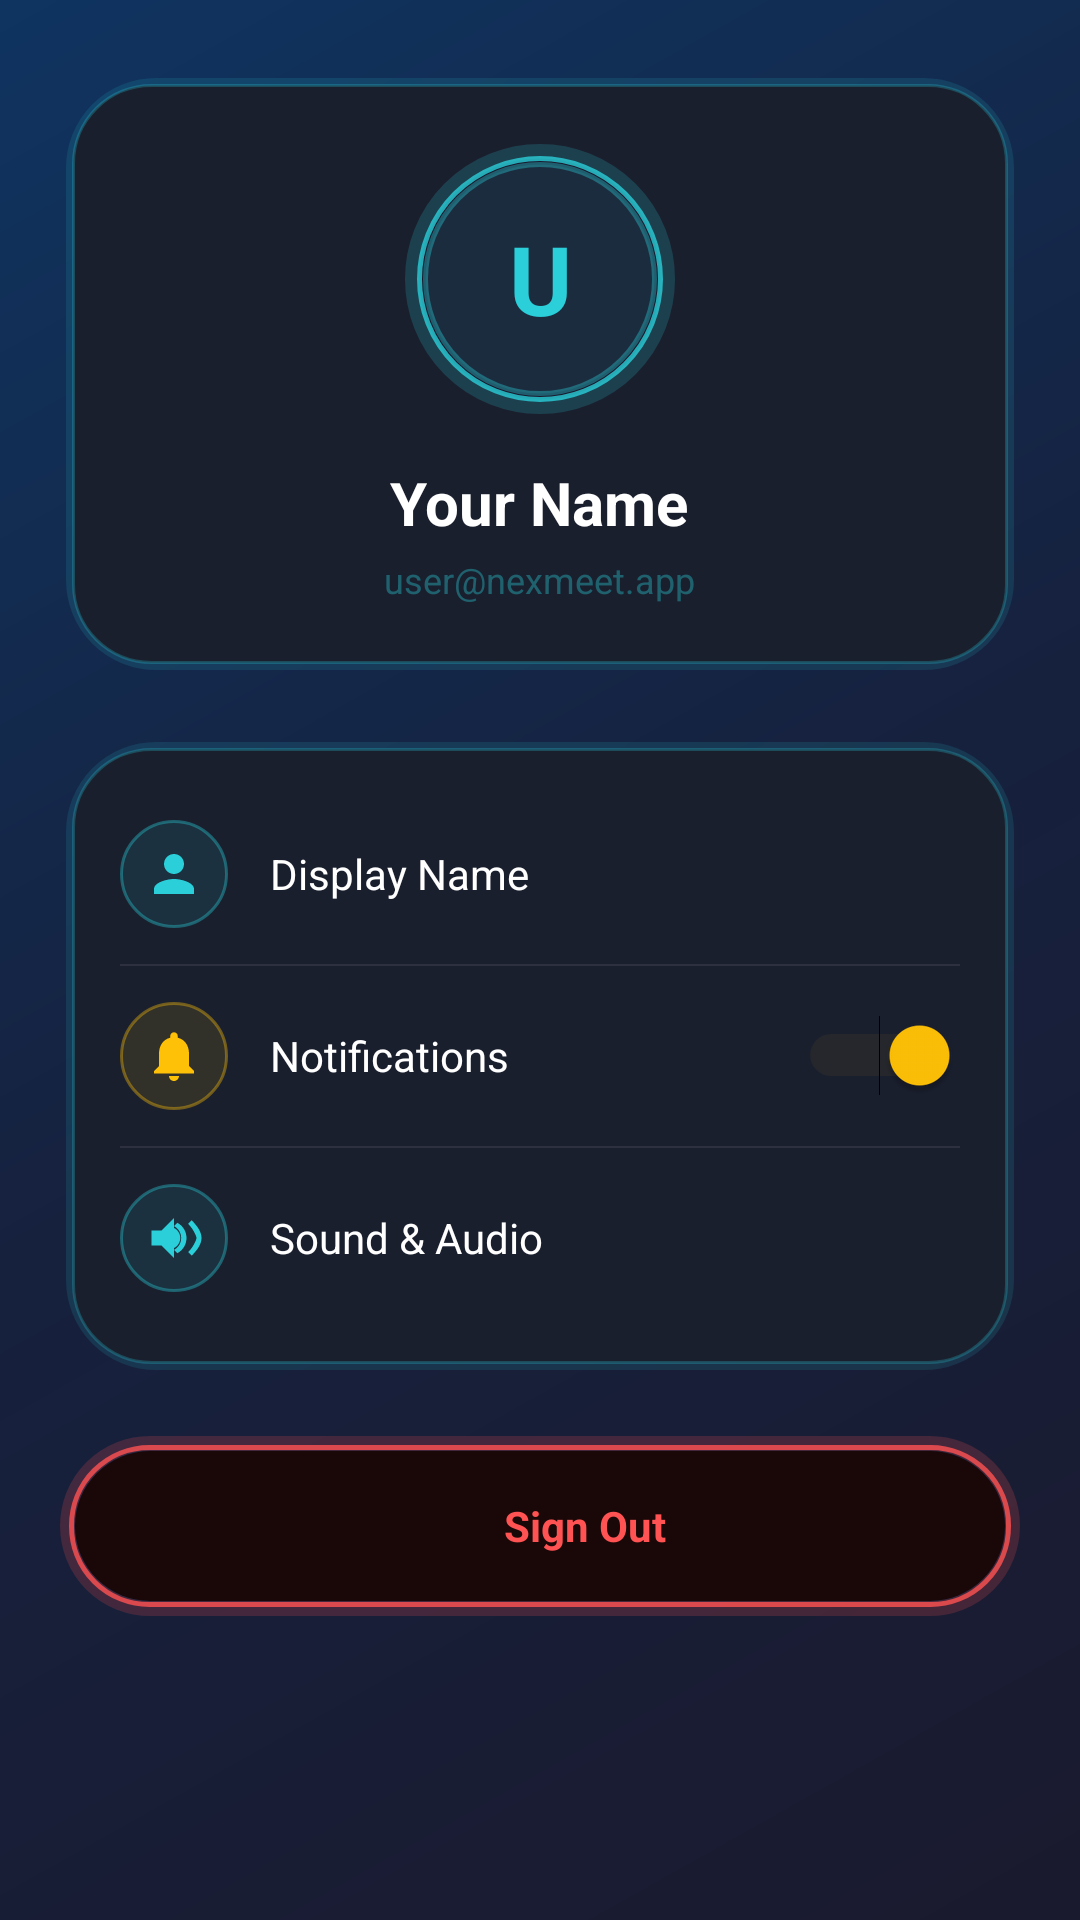

Where icons sit on this 1080*1920 app screen, as rect(x1, y1, x2, y2):
person: rect(154, 854, 194, 894)
volume: rect(151, 1218, 202, 1258)
